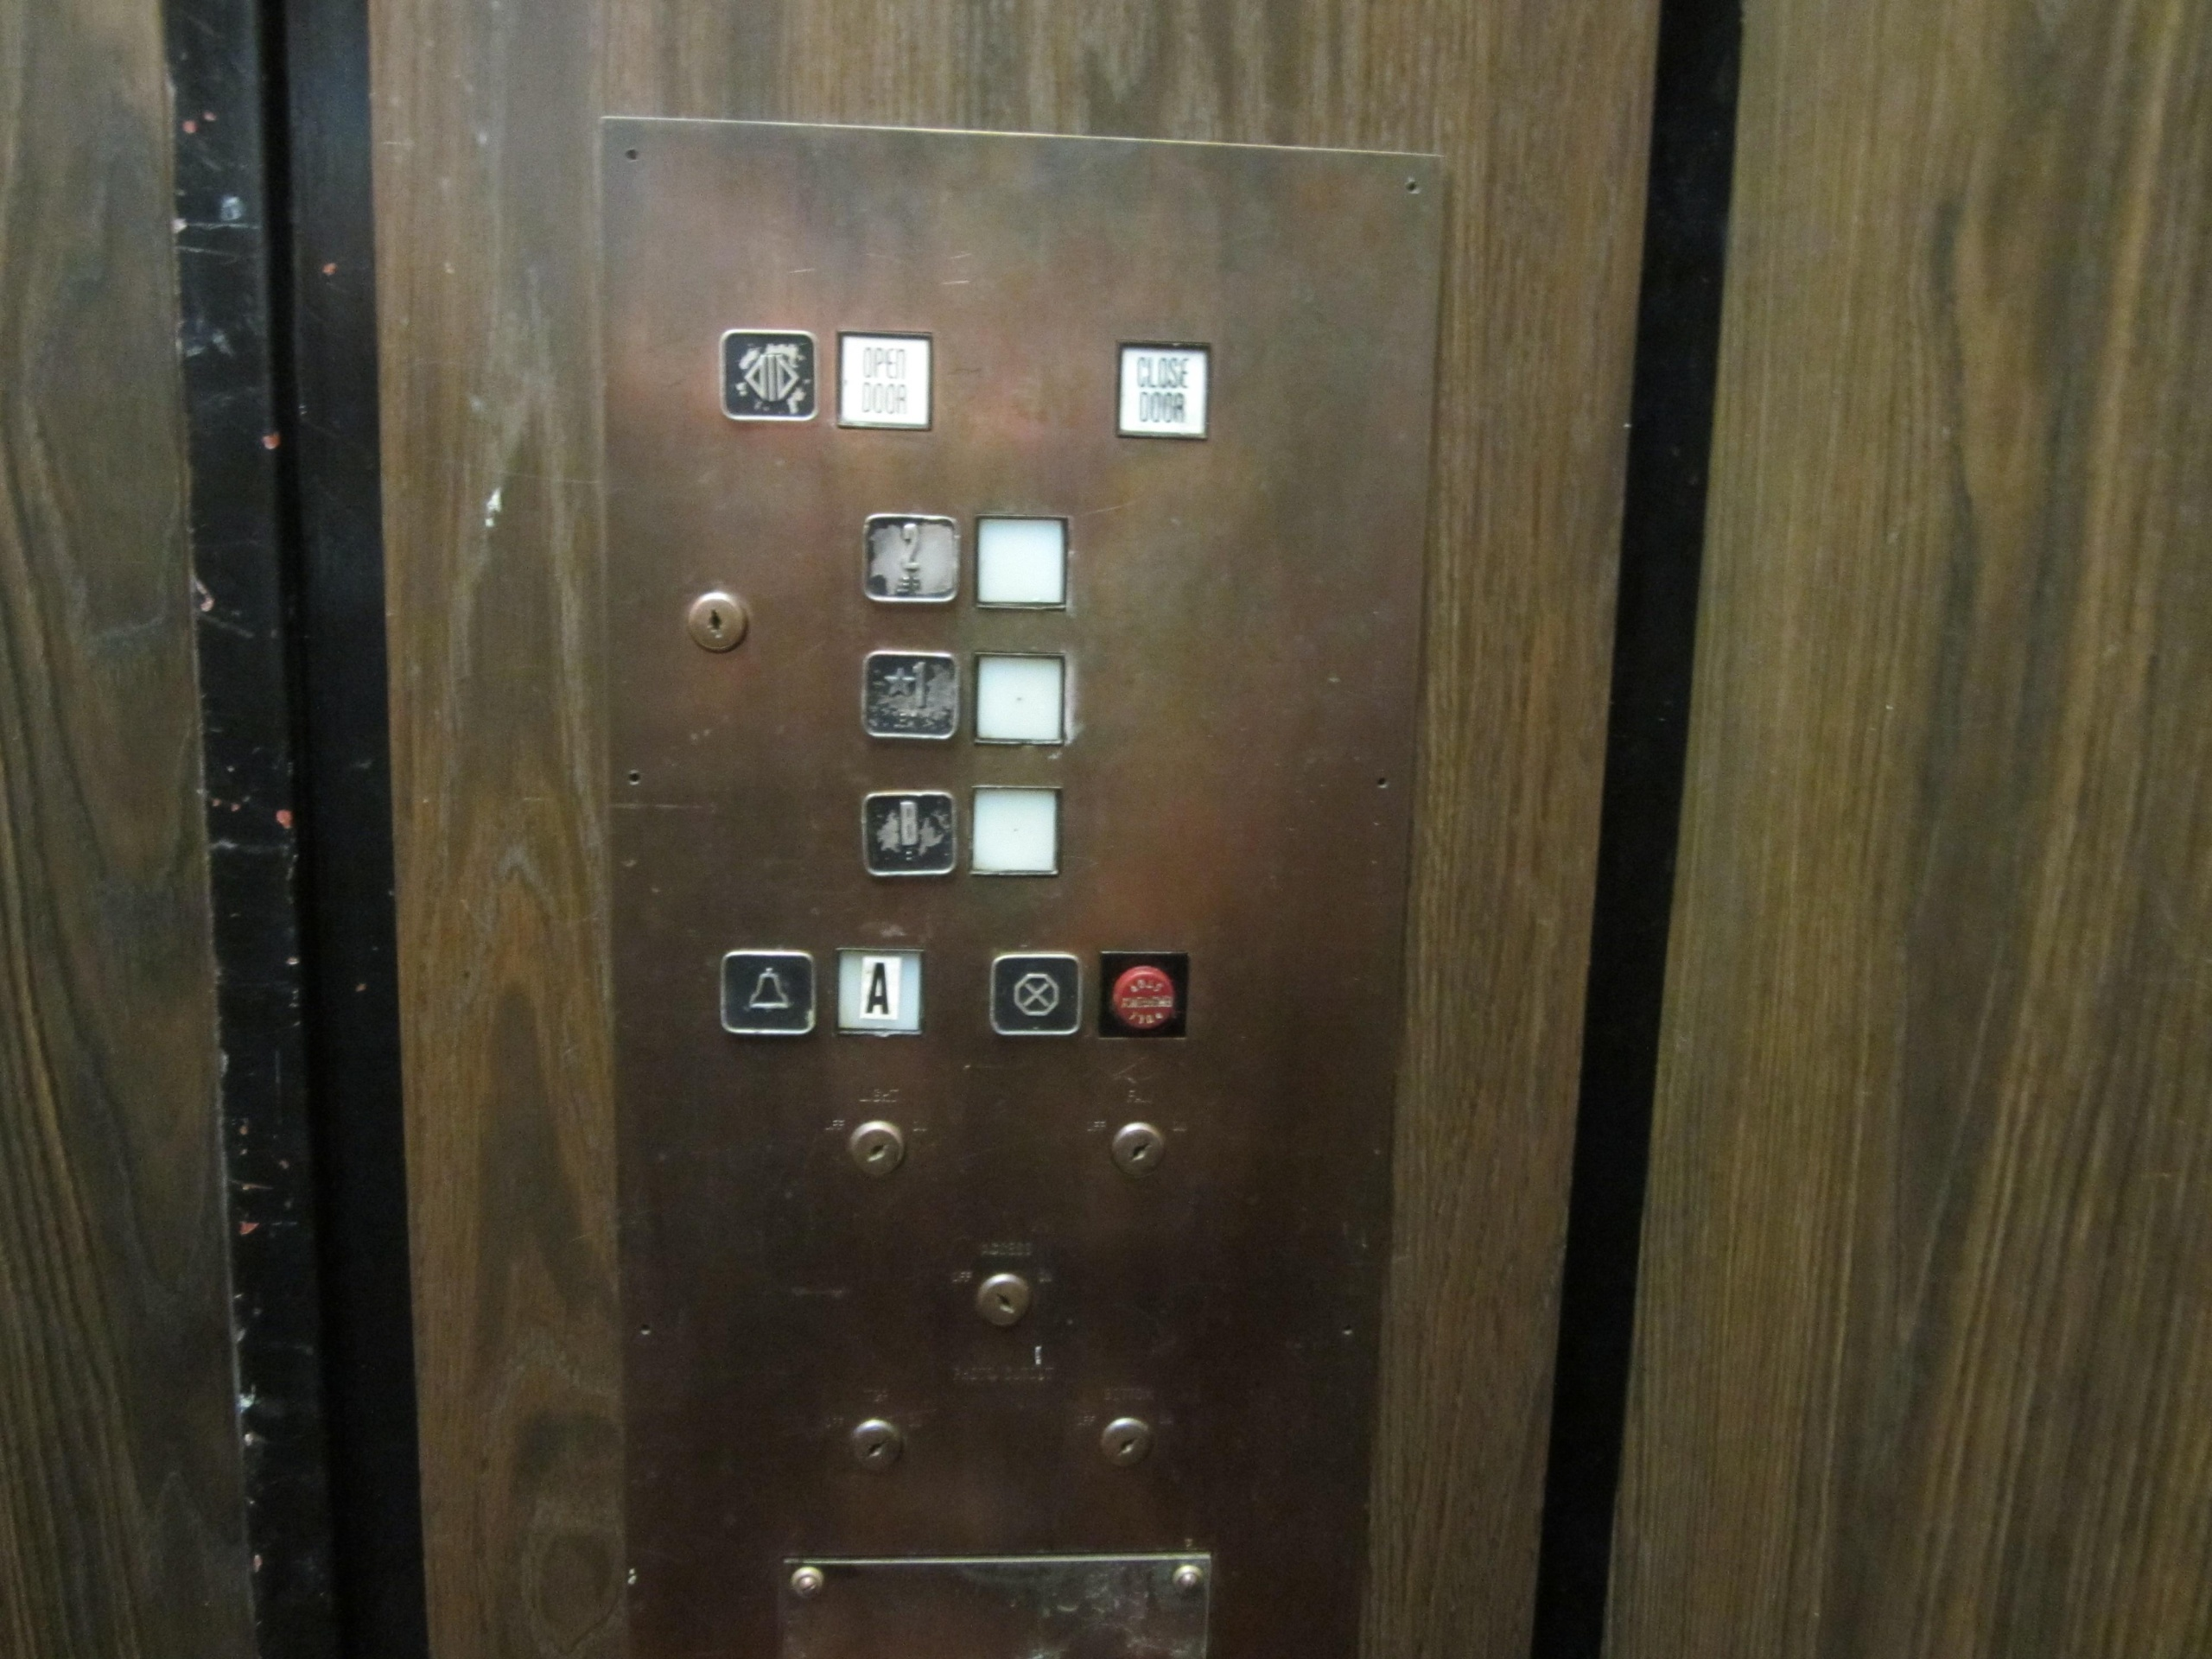2: (857, 507, 965, 613)
A: (829, 945, 928, 1037)
B: (857, 788, 961, 884)
alarm: (714, 950, 817, 1039)
empty: (967, 777, 1068, 880), (972, 511, 1071, 613), (972, 648, 1071, 748)
keyhole: (685, 586, 751, 655)
open: (716, 321, 822, 425)
s1: (864, 647, 961, 748)
stop: (986, 951, 1083, 1042)
text: (1109, 340, 1214, 443), (1097, 950, 1193, 1042)
text_open: (834, 329, 935, 432)
